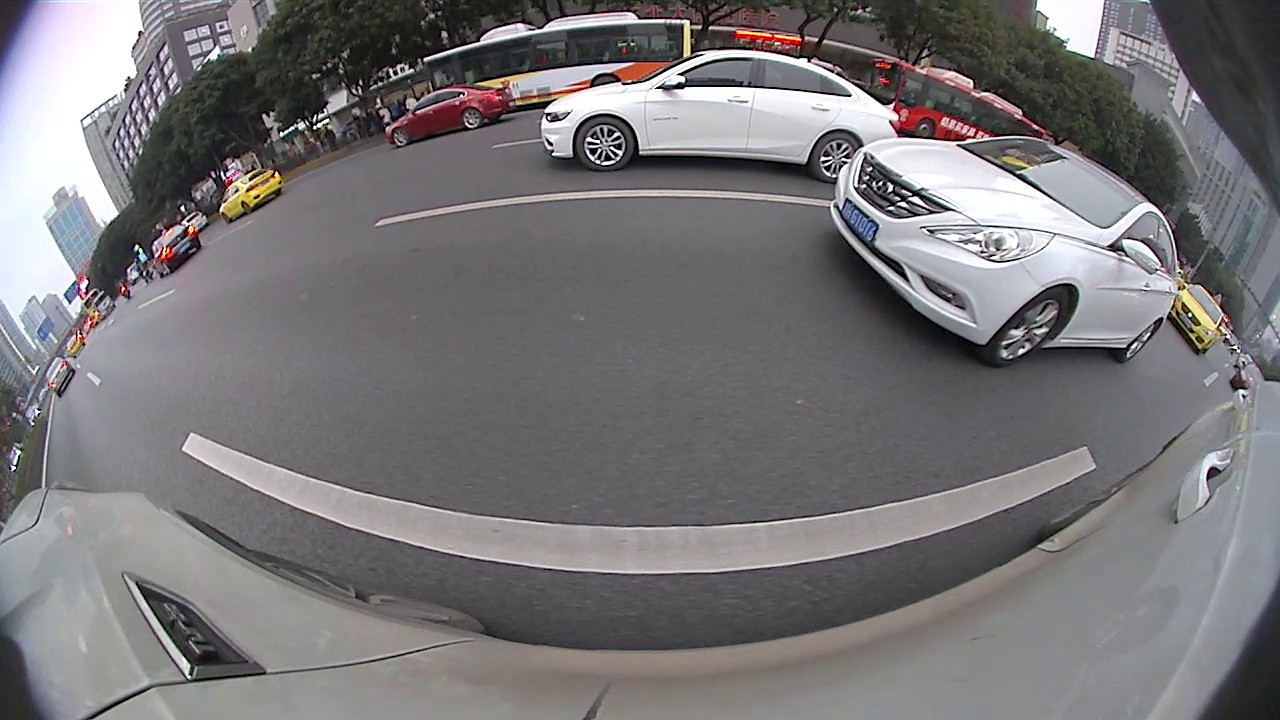bus: (1086, 163, 1260, 319)
car: (0, 118, 466, 478), (799, 118, 1119, 309), (1110, 211, 1197, 340), (1182, 311, 1277, 408), (594, 148, 673, 208), (488, 155, 565, 206), (710, 156, 791, 203)
front: (424, 200, 460, 257), (800, 186, 827, 232), (1172, 314, 1196, 350)
rear: (125, 303, 240, 432), (923, 218, 991, 300), (1095, 279, 1129, 327), (536, 181, 547, 204)
